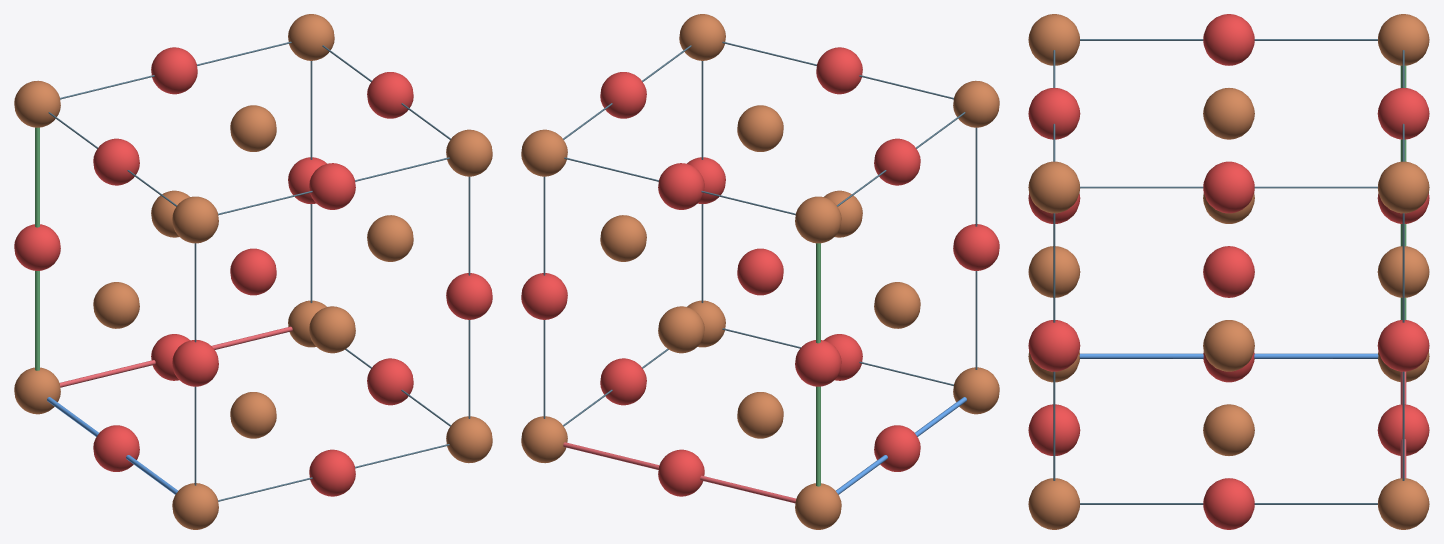
The model's file is chat-wustite-reference.glb.
3 views of the same model, side by side, from view 1: azimuth 30°, elevation 25°; view 2: azimuth 150°, elevation 25°; view 3: azimuth 270°, elevation 25° (orthographic). The views are drawn at different scales.
Parts seen in each view (by area): view 1: Fe · Fe · 1 (×14), O · O · 1 (×13), Ô mạng và các trục a, b, c; view 2: Fe · Fe · 1 (×14), O · O · 1 (×13), Ô mạng và các trục a, b, c; view 3: Fe · Fe · 1 (×14), O · O · 1 (×13), Ô mạng và các trục a, b, c.
Part boxes in pixels (bbox=[...]): Fe · Fe · 1 (×14): bbox=[14, 14, 492, 529]; O · O · 1 (×13): bbox=[14, 47, 492, 496]; Ô mạng và các trục a, b, c: bbox=[35, 41, 470, 501]; Fe · Fe · 1 (×14): bbox=[521, 14, 999, 529]; O · O · 1 (×13): bbox=[521, 47, 999, 496]; Ô mạng và các trục a, b, c: bbox=[543, 41, 977, 503]; Fe · Fe · 1 (×14): bbox=[1028, 14, 1429, 529]; O · O · 1 (×13): bbox=[1028, 14, 1429, 529]; Ô mạng và các trục a, b, c: bbox=[1053, 39, 1406, 504].
Bounding box in the file's own units: 4.95 × 4.95 × 4.95.
